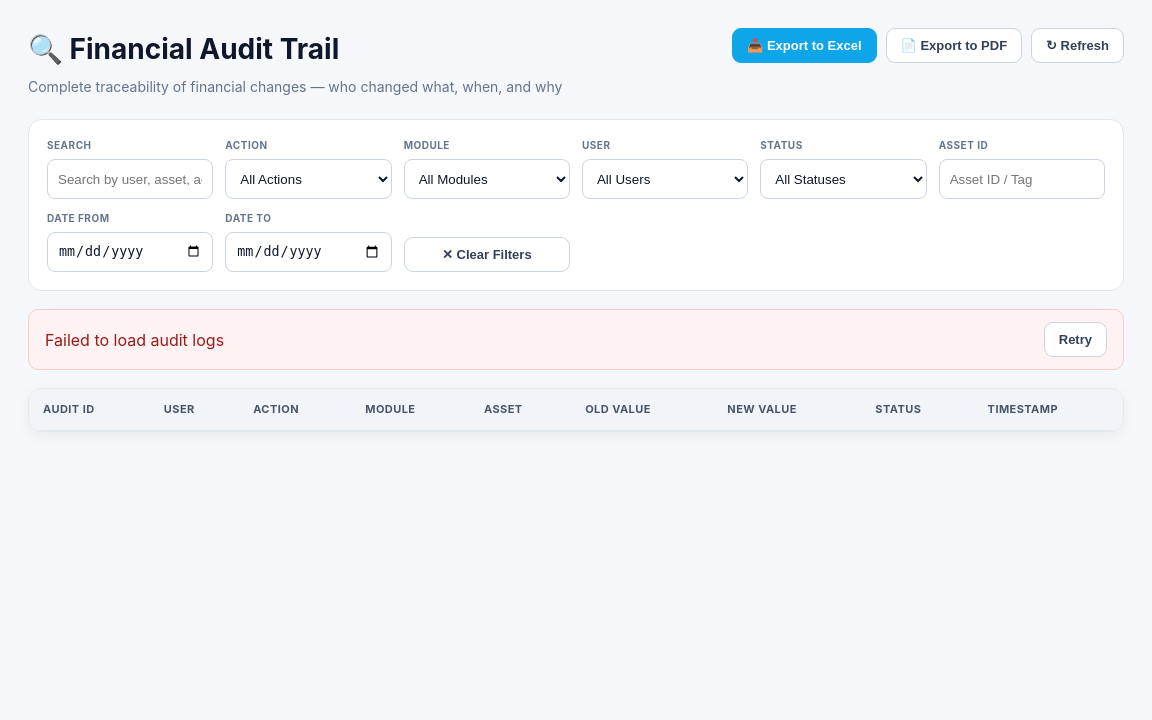
Test: shows a retry action after a request failure and recovers on retry
Check: the message "Retry" shows "Failed to load audit logs", box [45,330,224,350]
Click the button "Retry" at (1075, 340), box [1044,322,1107,357]
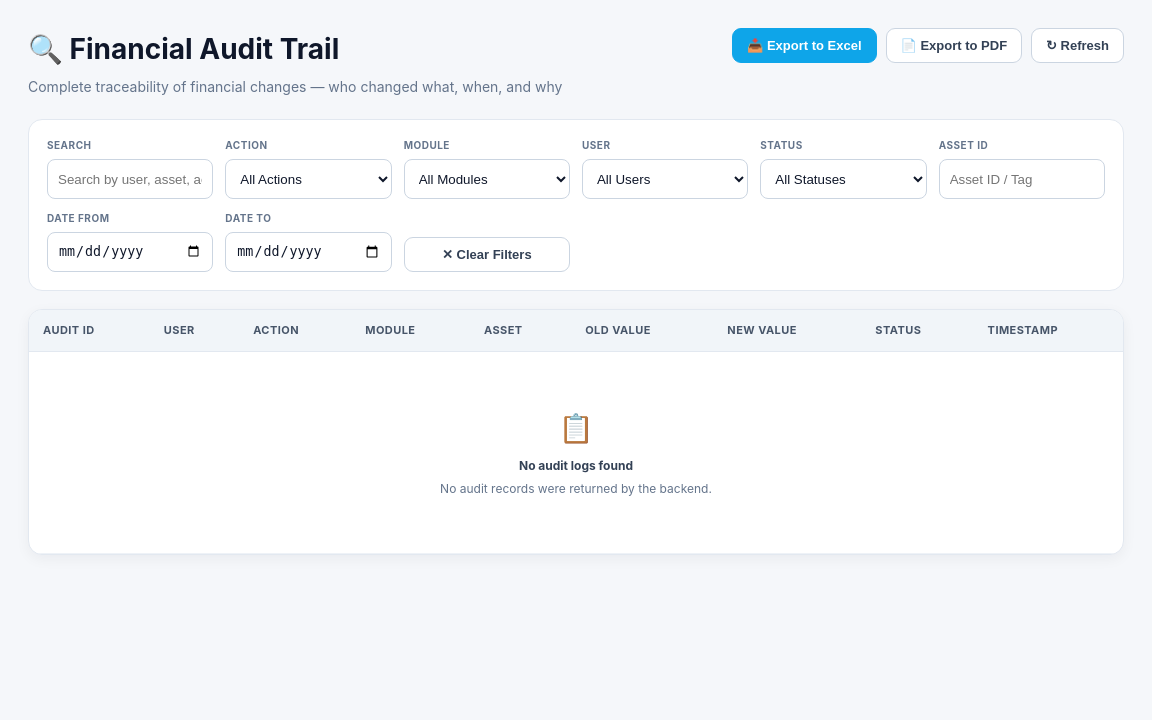
Check: the message "Failed to load audit logs Retry" is gone
Check: the text "No audit records were returned by the backend." is shown, box [440,480,712,496]
